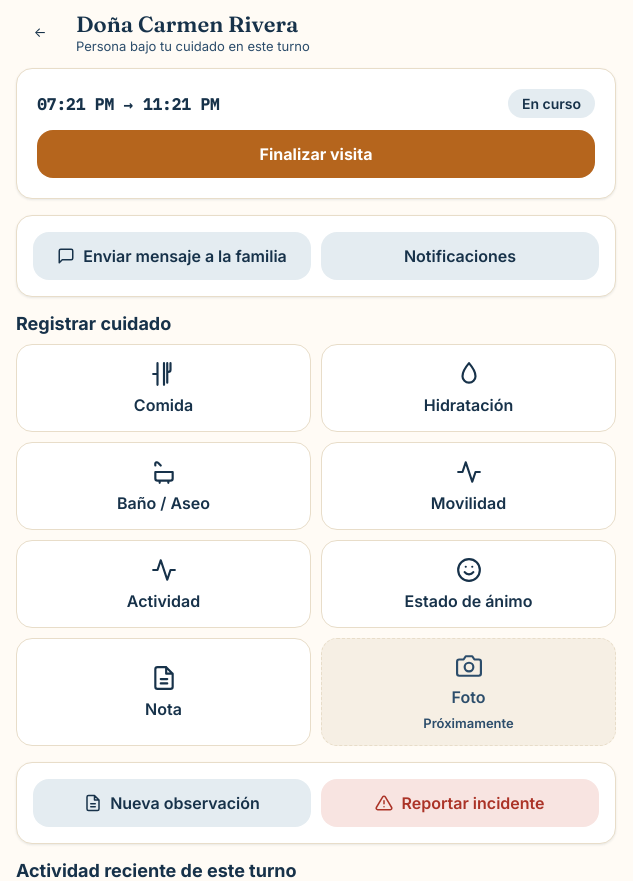
Test: Caregiver -- espacio de trabajo del turno › al confirmar, finaliza la visita y muestra el resumen de cuidados registrados
Click the button "Finalizar visita" at (316, 154), box [37,130,595,178]
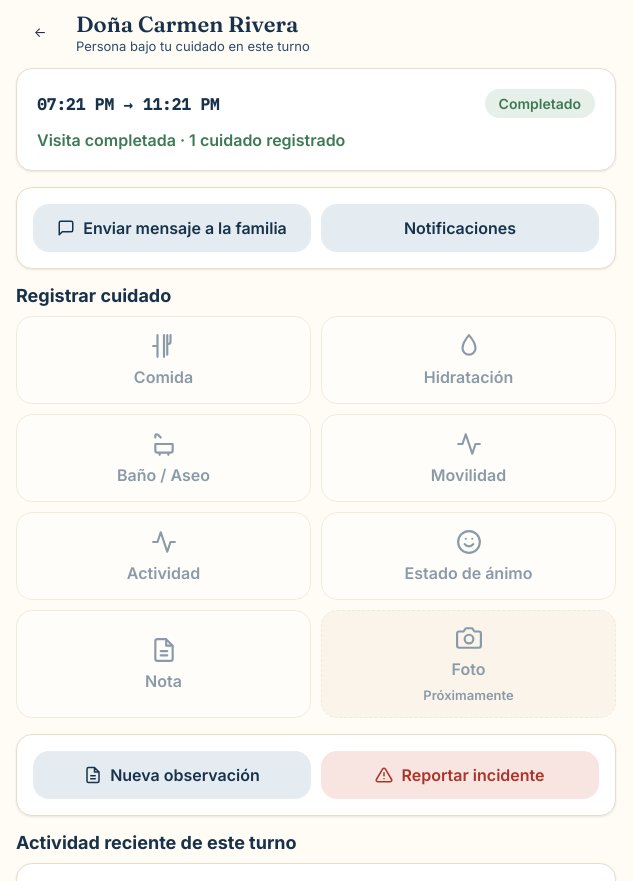
expect the text "Visita completada · 1 cuidado registrado" is shown: met, box [37,130,345,150]
